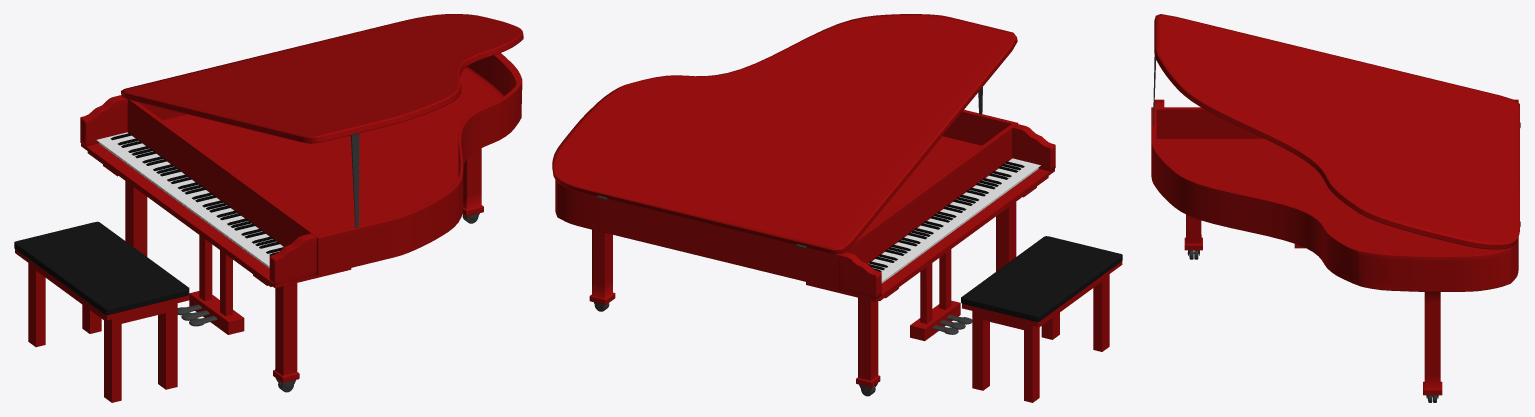
Rendered from GrandPiano.FBX.
The picture shows the model from 3 angles, left to right: view 1: azimuth 30°, elevation 25°; view 2: azimuth 150°, elevation 25°; view 3: azimuth 270°, elevation 25°; orthographic projection. The views are drawn at different scales.
Parts seen in each view (by area): view 1: grand_piano; view 2: grand_piano; view 3: grand_piano.
Part boxes in pixels (x1,y1,x2,y2): grand_piano: [14, 14, 523, 402]; grand_piano: [552, 14, 1122, 402]; grand_piano: [1151, 14, 1520, 402].
Bounding box in the file's own units: 29.49 × 15.22 × 20.37.
